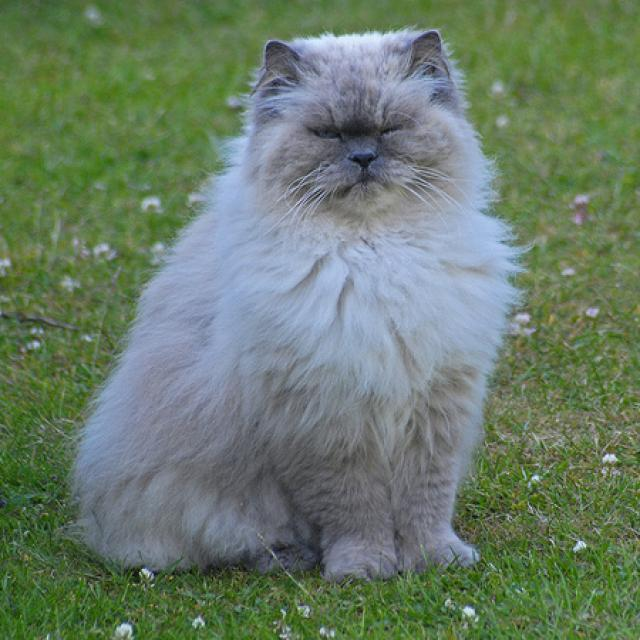Persian: (62, 24, 509, 588)
